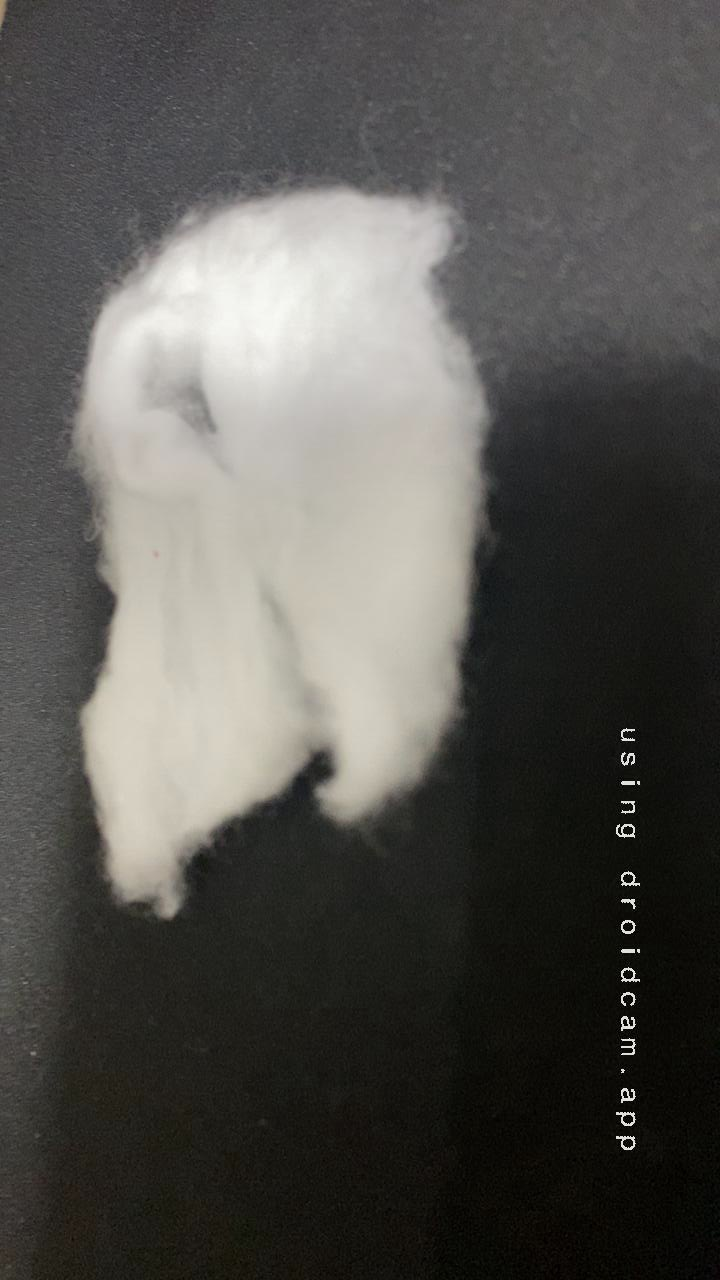cotton: (0, 138, 582, 899)
